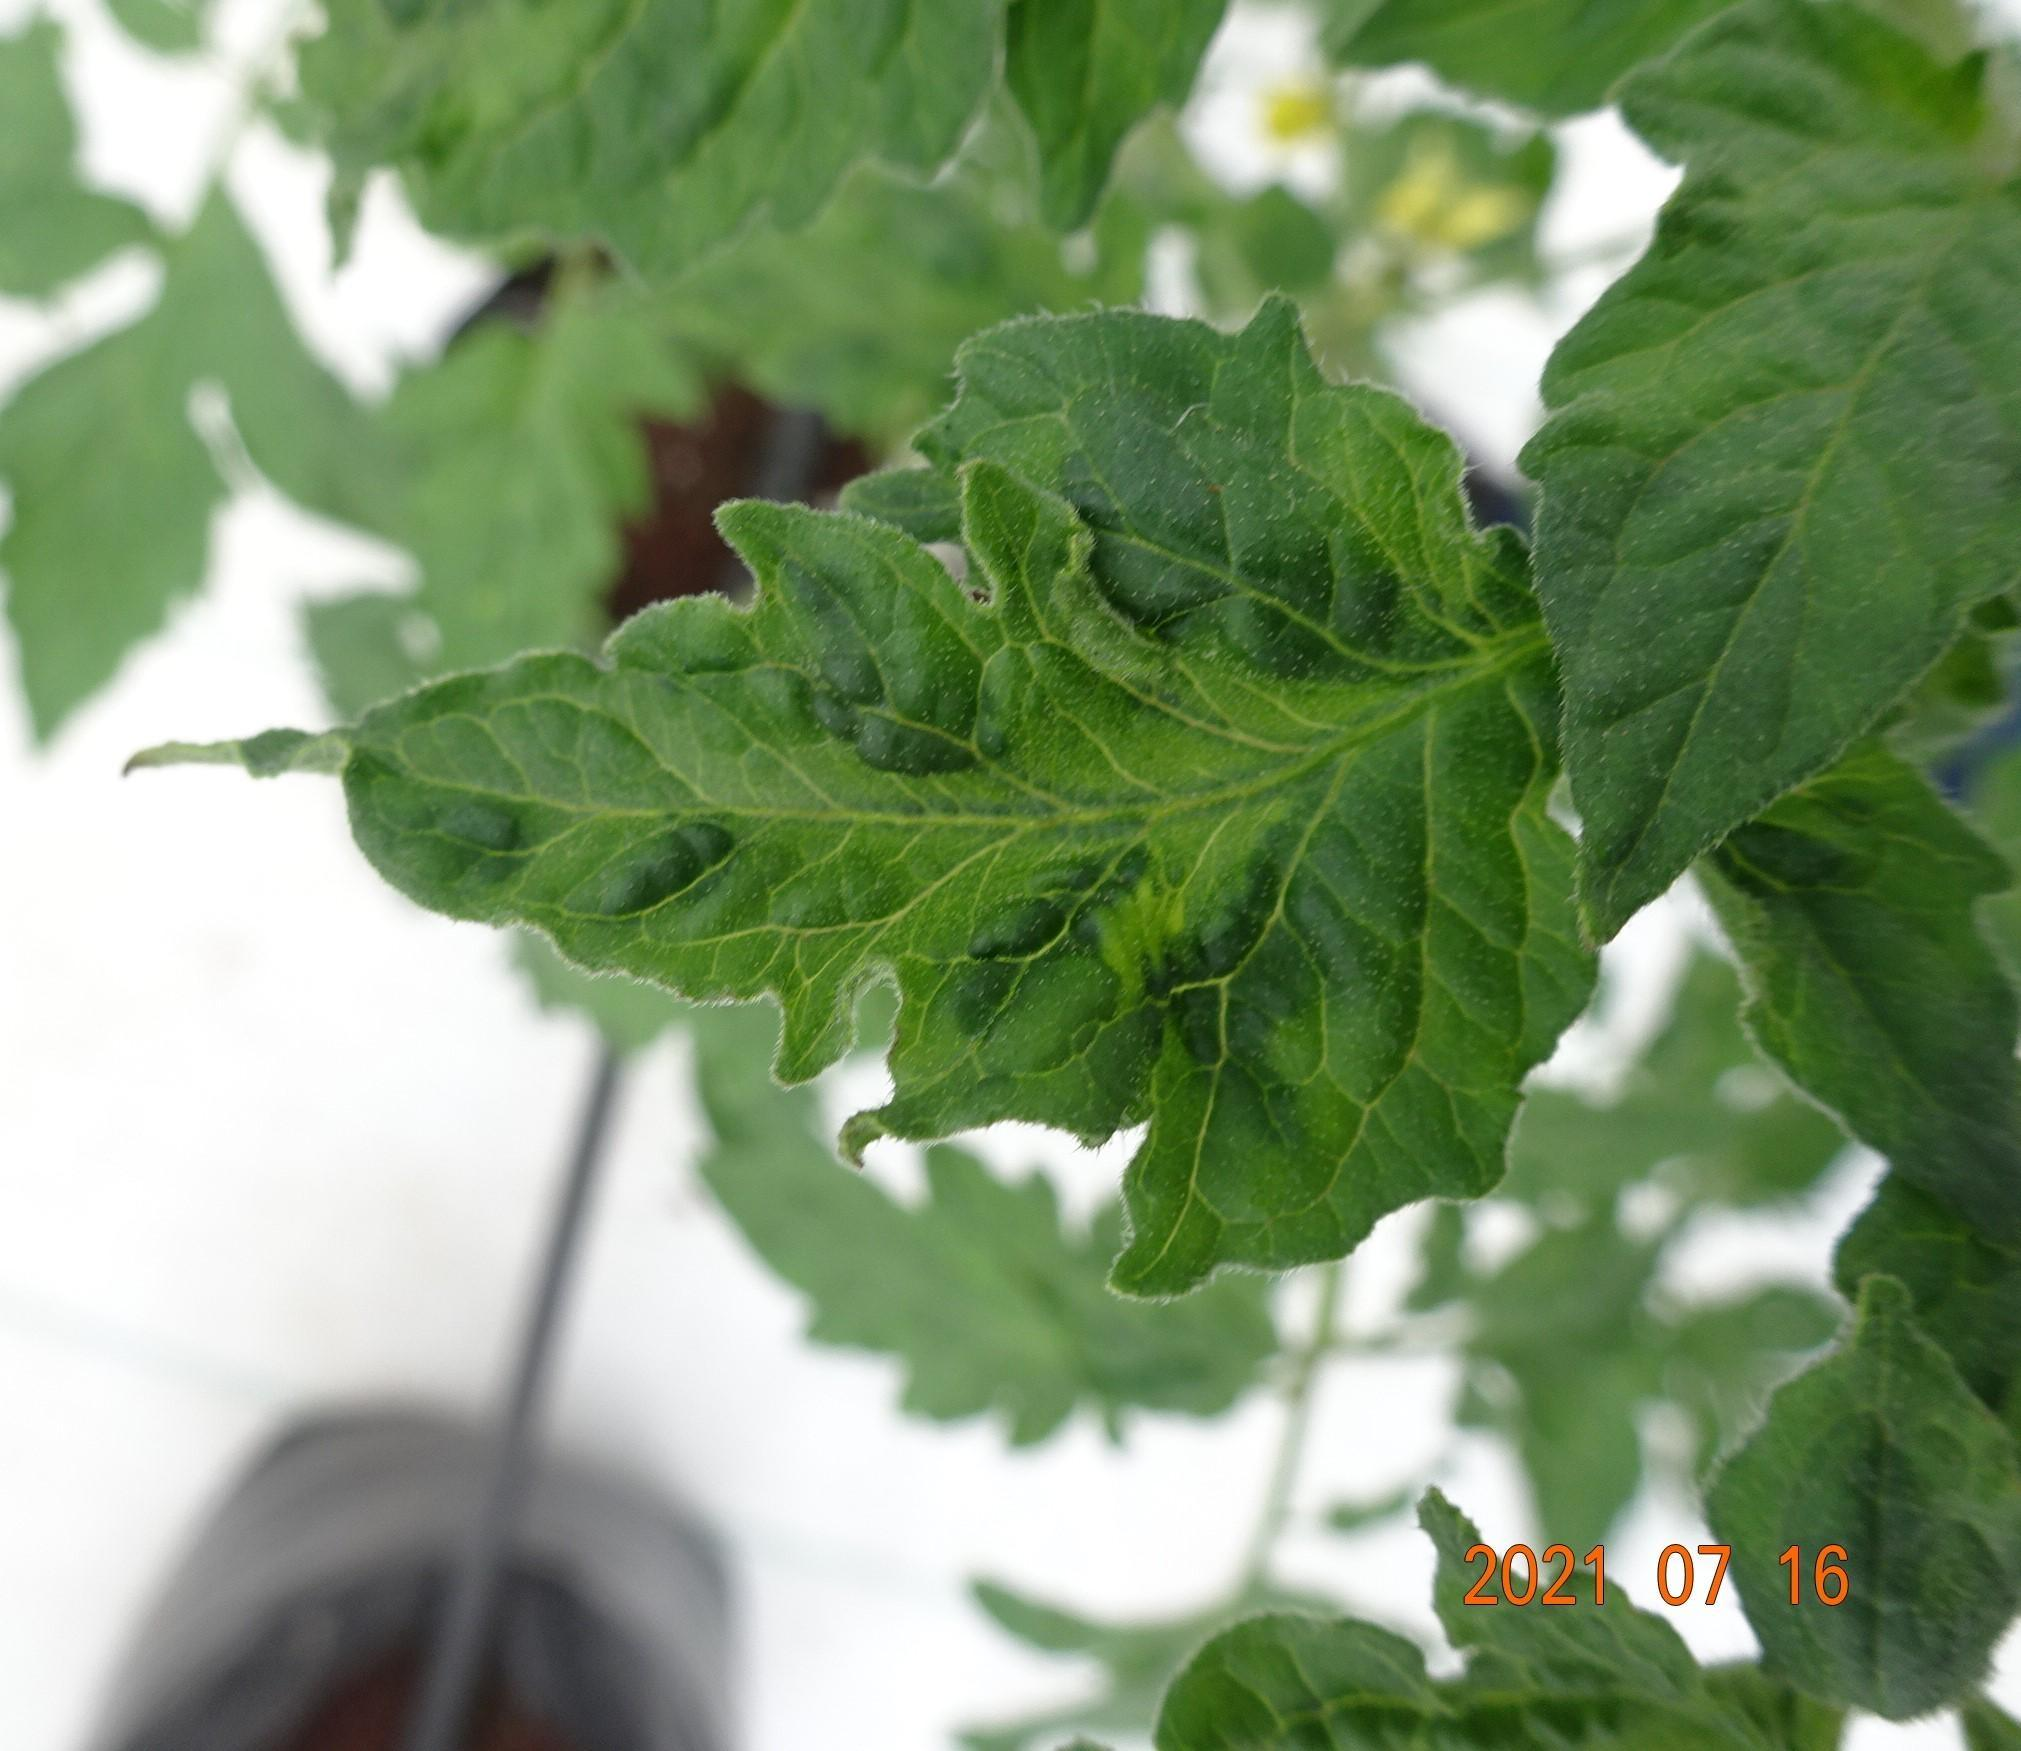Hoja rugoso: (332, 301, 1598, 1308), (1524, 3, 2021, 931), (1710, 1275, 2021, 1717)
